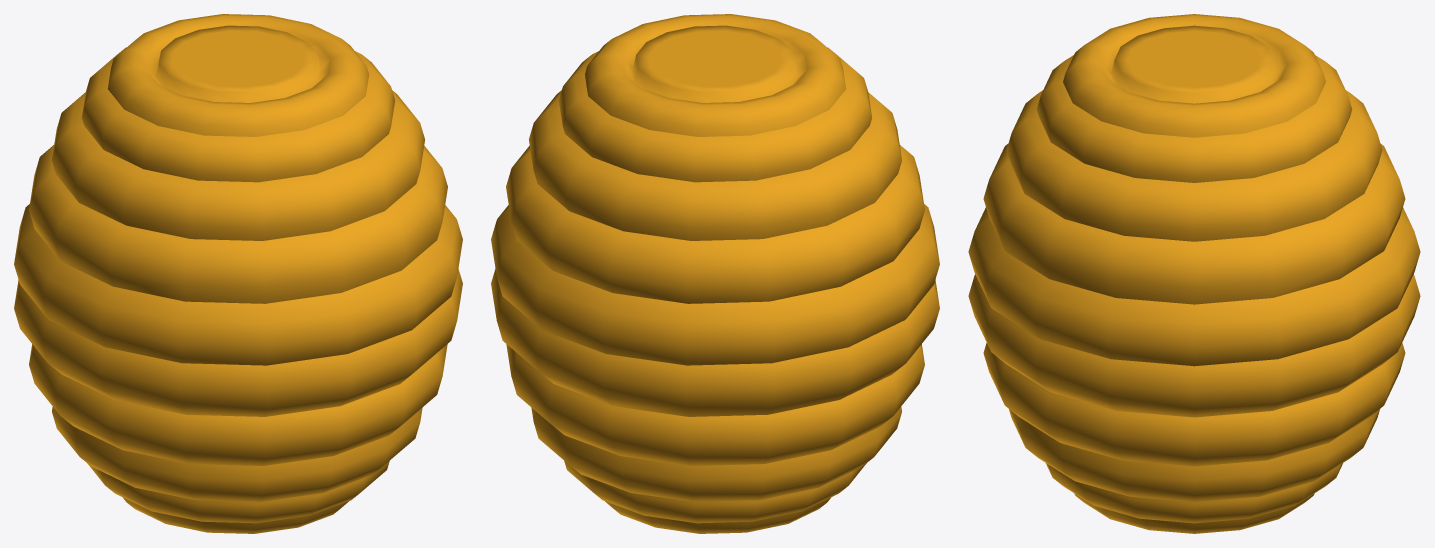
File: Beehive.fbx
3 renders of one model, left to right at view 1: azimuth 30°, elevation 25°; view 2: azimuth 150°, elevation 25°; view 3: azimuth 270°, elevation 25°, orthographic.
Visible parts, largest first — view 1: Hive; view 2: Hive; view 3: Hive.
Part boxes in pixels (bbox=[...]): Hive: bbox=[14, 14, 462, 533]; Hive: bbox=[491, 14, 939, 533]; Hive: bbox=[968, 14, 1420, 533].
Size of the model in its own units: 3.84 by 4.01 by 3.84.
